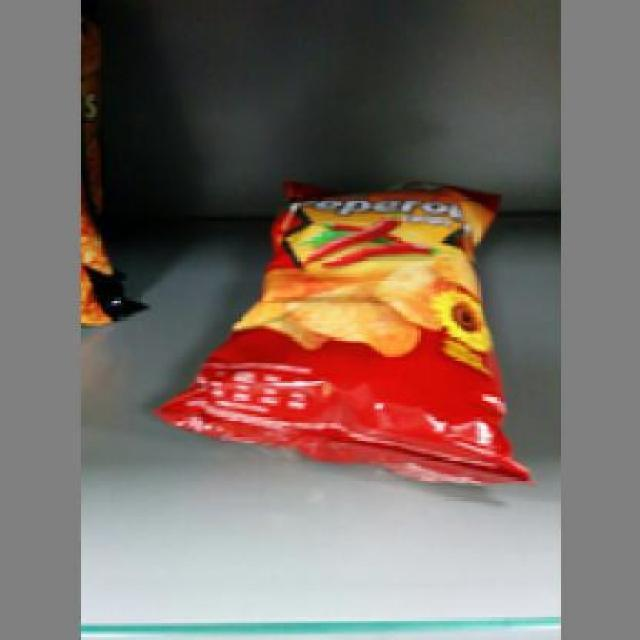Chips: (156, 174, 530, 491)
